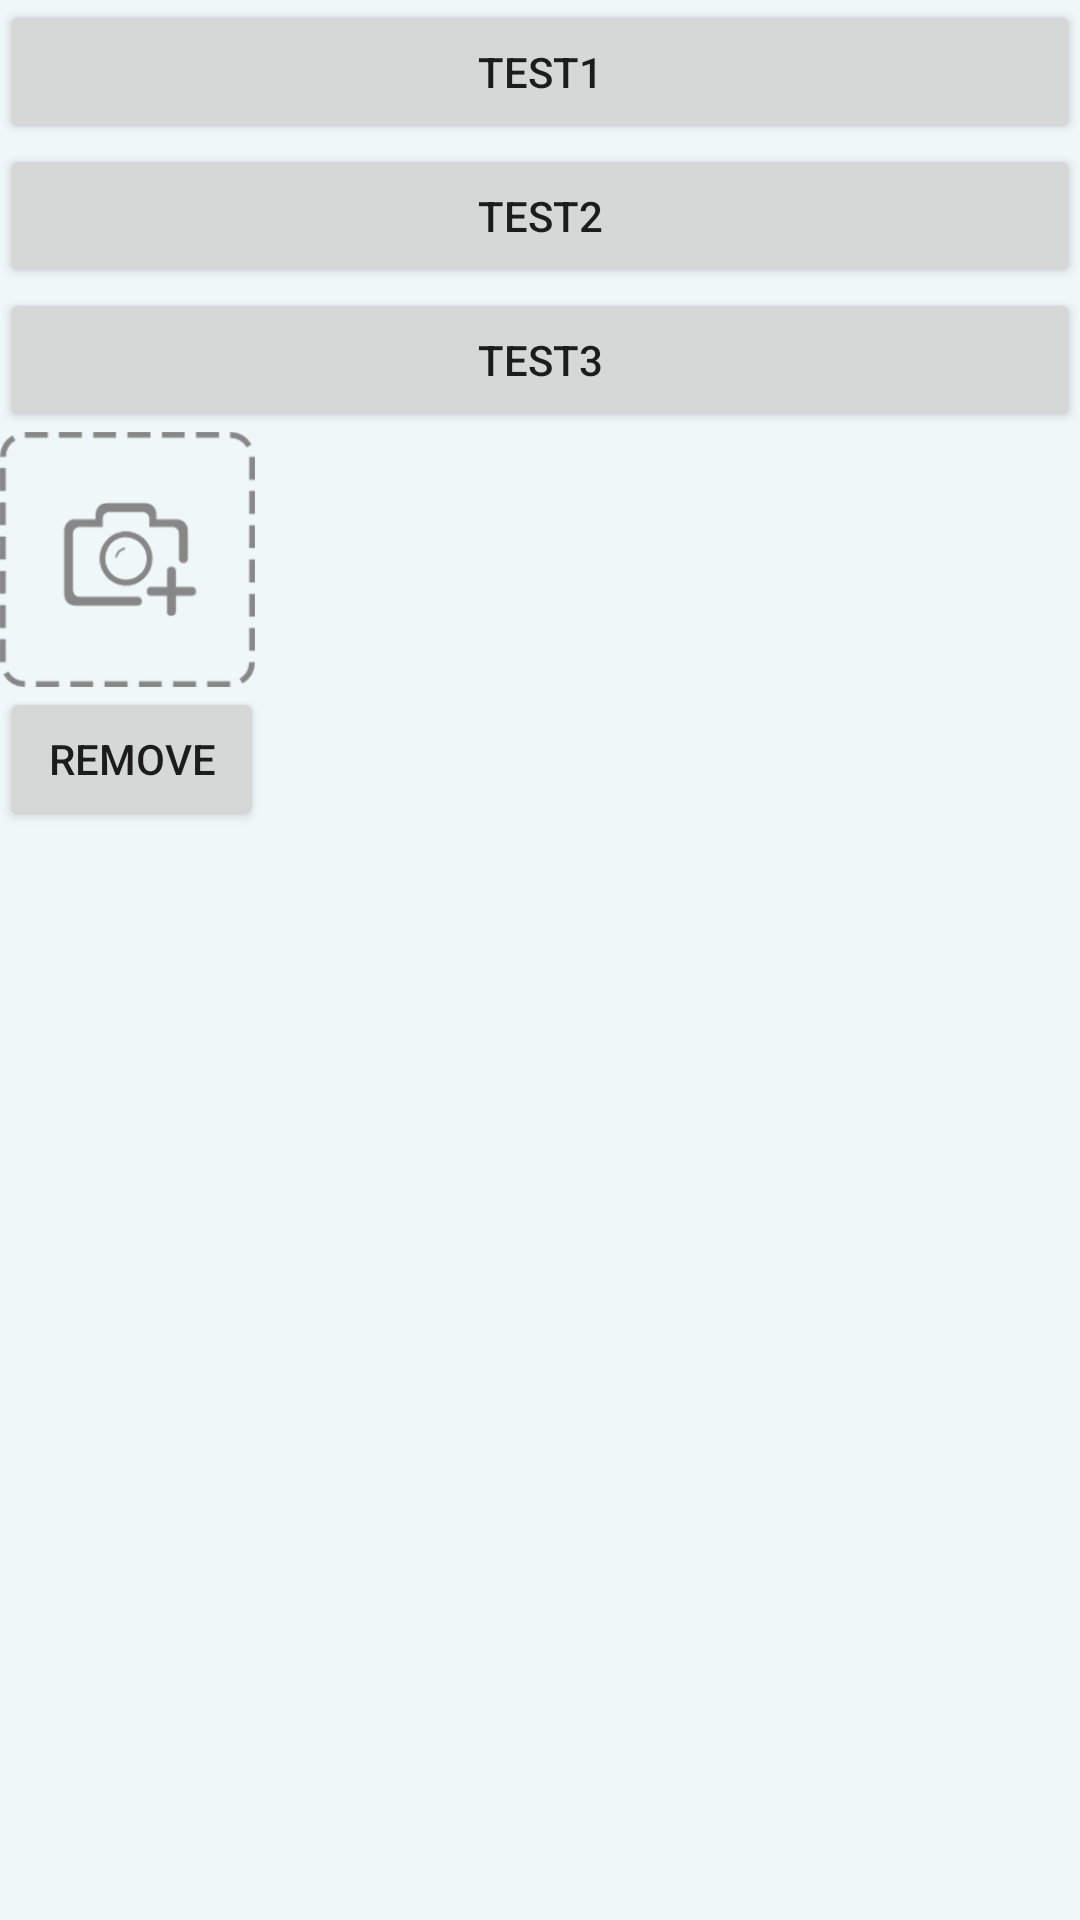

Icon bounding boxes for this 1080 x 1920 phone screenshot, format box=[x1, y1, x2, y2]:
add: box=[0, 432, 255, 687]
